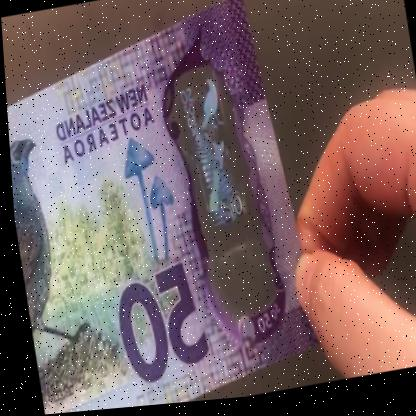50B: (174, 73, 265, 307)
